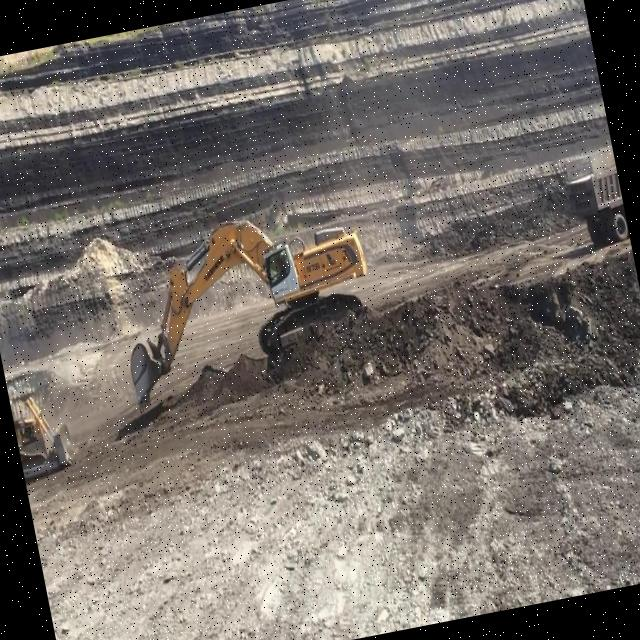Dump Truck: (559, 143, 630, 249)
Excavator: (102, 192, 388, 412)
Loader: (9, 385, 78, 485)
